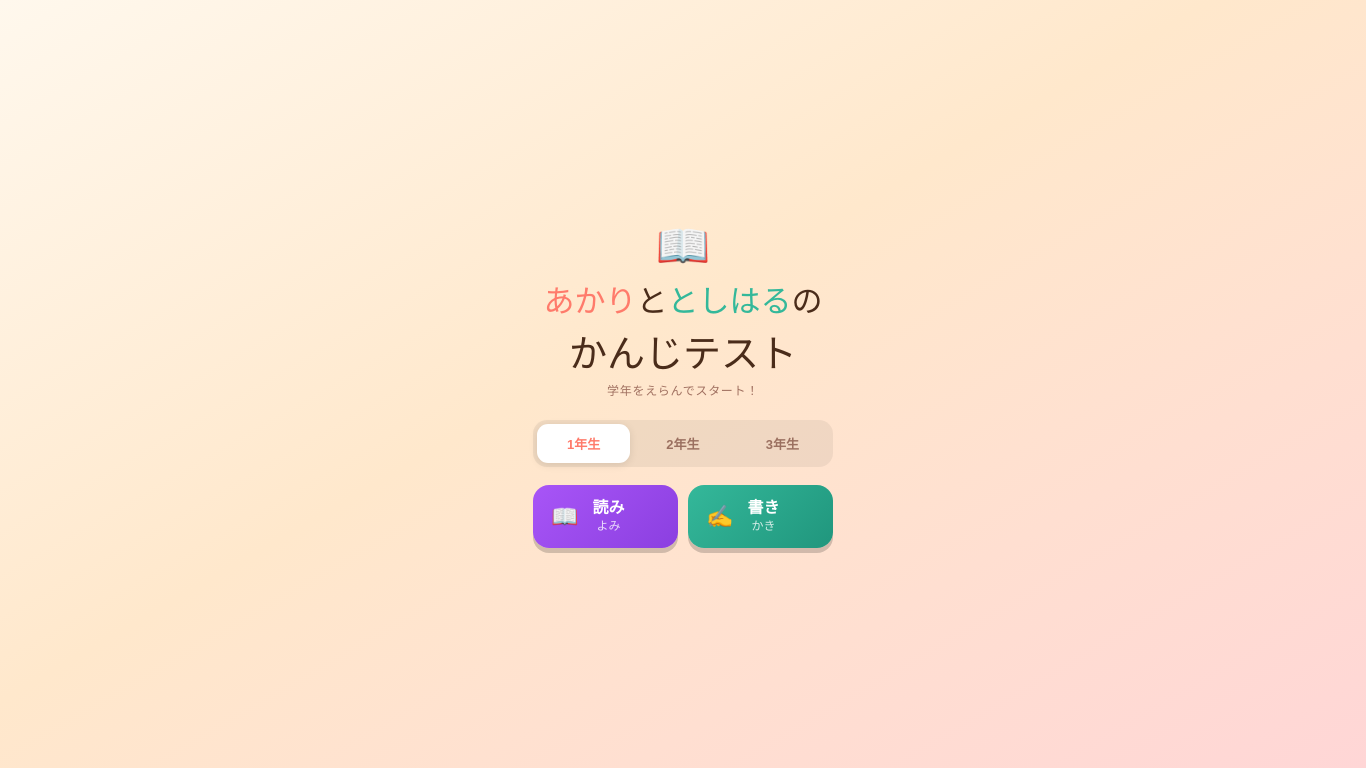
KanjiQuiz › 学年とモードを選ぶとクイズ画面へ進む
This screenshot has width=1366, height=768.
Click the button "3年生" at coordinates (782, 444), box [736,424,829,463]
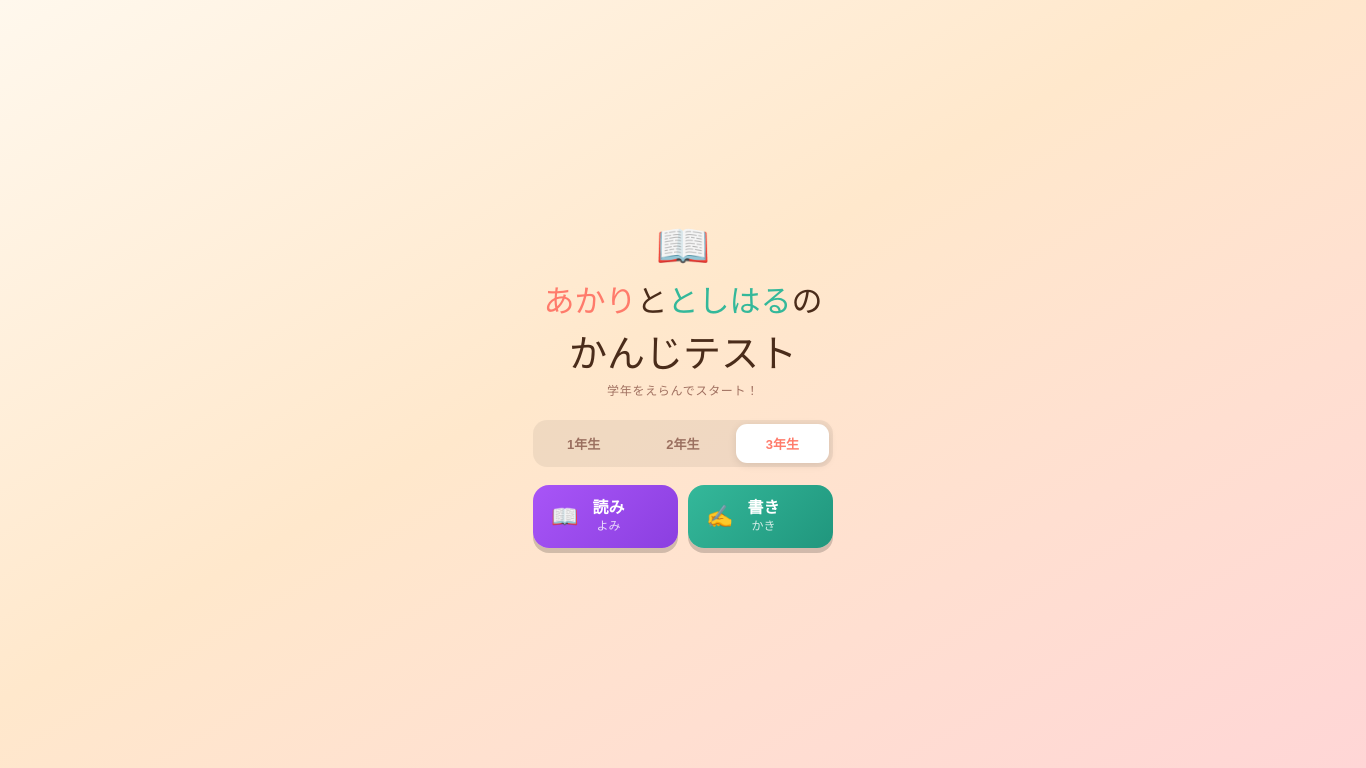
Click the button "📖 読み よみ" at coordinates (606, 516), box [533,485,678,548]
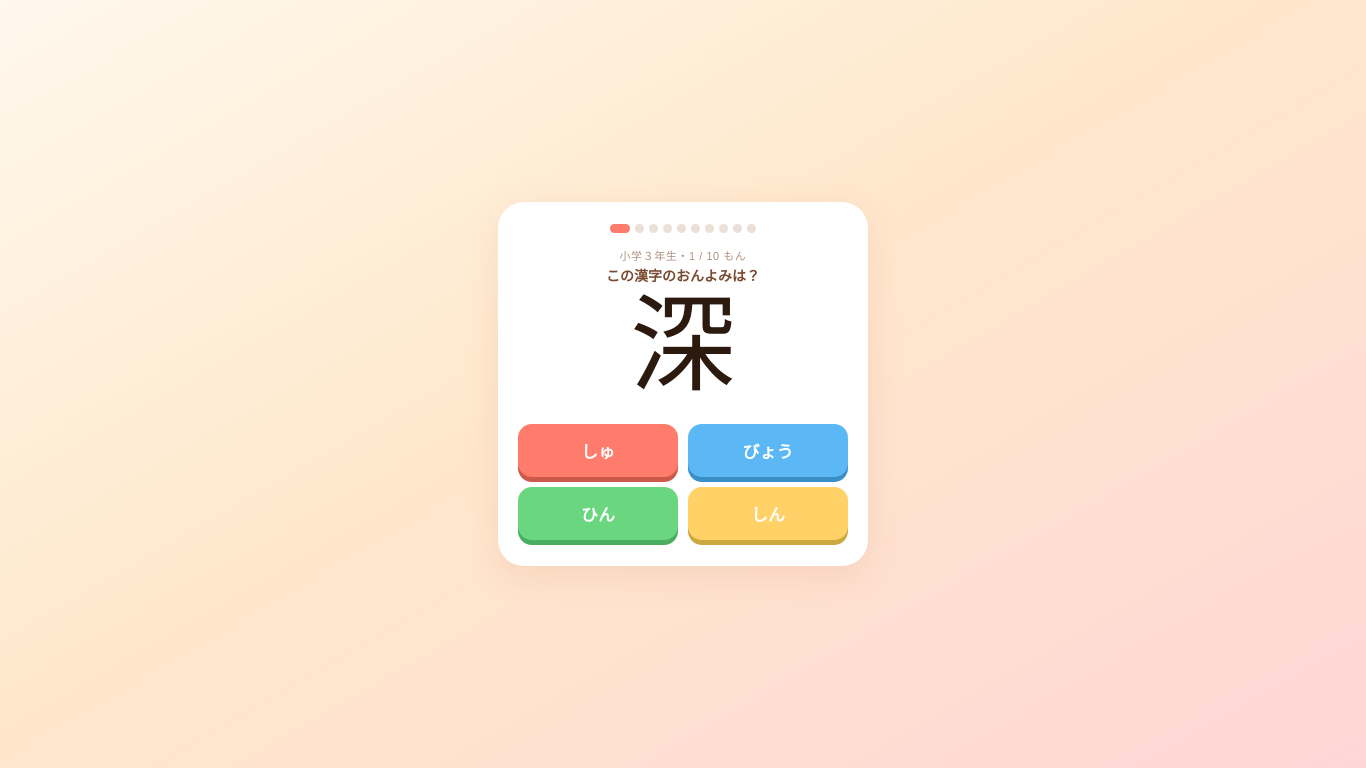
Check: the text "小学３年生・1 / 10 もん" is shown, box [620,250,746,262]
Check: the text "この漢字のおんよみは？" is shown, box [606,268,760,284]
